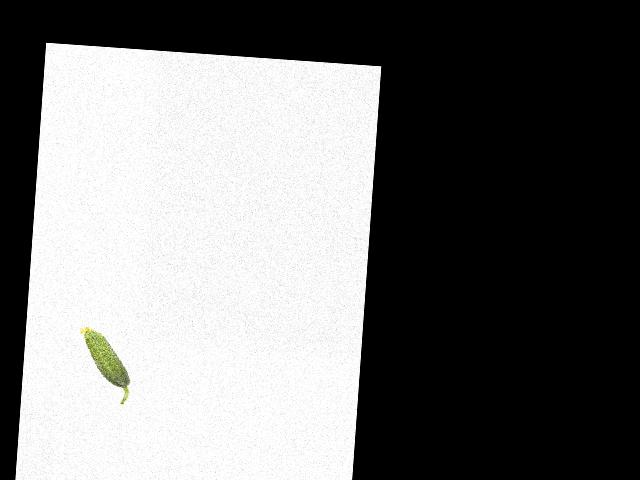cucumber: (74, 325, 134, 404)
